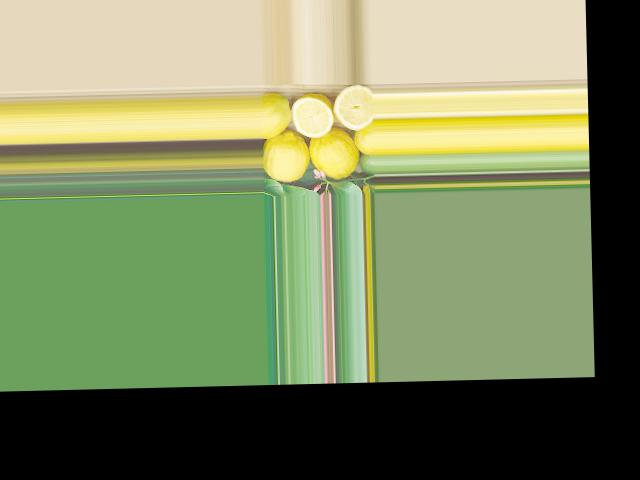lemon: (260, 93, 298, 143)
